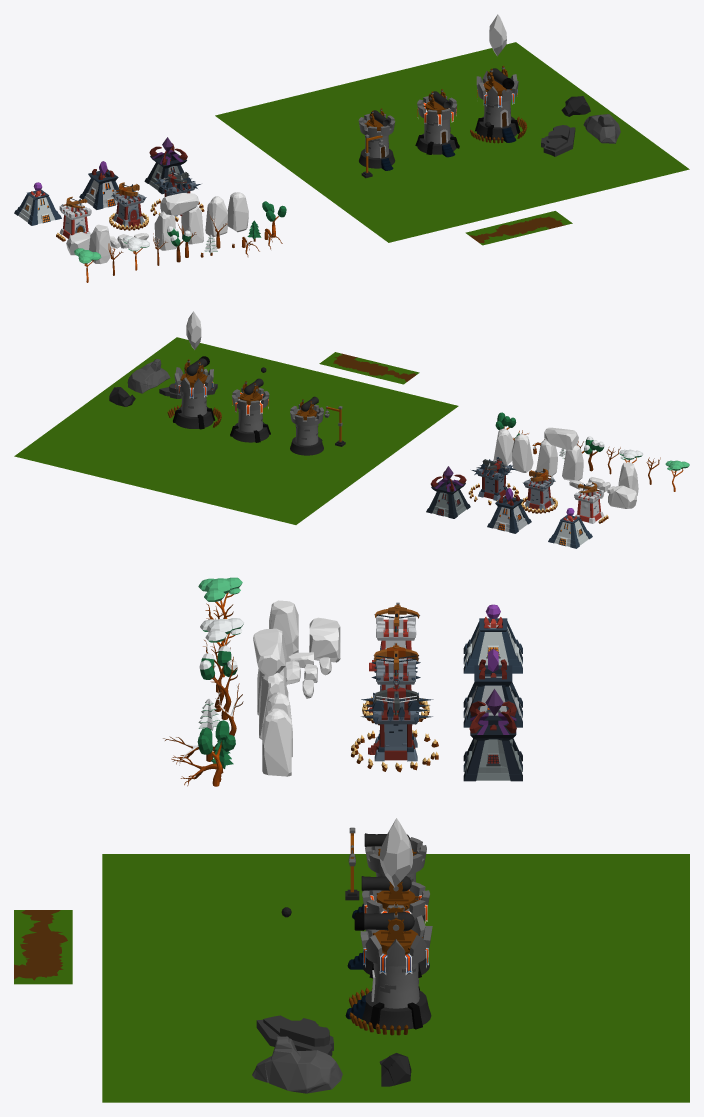
3 views of the same model, one above another, from view 1: azimuth 30°, elevation 25°; view 2: azimuth 150°, elevation 25°; view 3: azimuth 270°, elevation 25° (orthographic). The views are drawn at different scales.
Visible parts, largest first — view 1: Plane, Tower Lvl 3, Tower Lvl 2, Tower Lvl 1, Tower lvl2, Tower lvl1, Tower lvl3, Archery Lvl.2, Cube.003, Plane.001, Archery Lvl.1, Cube.028 (+13 smaller); view 2: Plane, Tower Lvl 3, Tower Lvl 2, Tower lvl3, Tower Lvl 1, Tower lvl2, Tower lvl1, Archery Lvl.3, Cube.003, Archery Lvl.1, Archery Lvl.2, Cube.028 (+12 smaller); view 3: Plane, Tower Lvl 3, Tower lvl3, Cube.003, Archery Lvl.3, Tower lvl1, Tower lvl2, Plane.001, Cube.027, Gun.002, Plane.005, Plane.007 (+16 smaller).
Part boxes in pixels (x1,y1,x2,y2): Plane: (215,42,689,242); Tower Lvl 3: (470,71,527,143); Tower Lvl 2: (415,96,459,157); Tower Lvl 1: (358,113,395,170); Tower lvl2: (79,169,118,209); Tower lvl1: (14,189,61,225); Tower lvl3: (144,143,187,194); Archery Lvl.2: (111,190,146,227); Cube.003: (583,114,620,143); Plane.001: (541,125,575,156); Archery Lvl.1: (59,203,91,238); Cube.028: (205,196,227,237); Plane: (14,337,458,524); Tower Lvl 3: (167,367,221,429); Tower Lvl 2: (230,387,270,442); Tower lvl3: (426,471,470,518); Tower Lvl 1: (290,404,323,455); Tower lvl2: (487,495,531,533); Tower lvl1: (548,515,592,548); Archery Lvl.3: (471,460,516,500); Cube.003: (127,359,170,393); Archery Lvl.1: (574,488,603,523); Archery Lvl.2: (523,476,555,510); Cube.028: (512,434,533,472); Plane: (102,854,689,1102); Tower Lvl 3: (345,915,432,1035); Tower lvl3: (463,701,522,781); Cube.003: (252,1036,342,1093); Archery Lvl.3: (361,692,433,761); Tower lvl1: (463,617,522,673); Tower lvl2: (463,659,522,727); Plane.001: (256,1015,333,1056); Cube.027: (262,708,291,776); Gun.002: (354,902,422,954); Plane.005: (14,934,72,959); Plane.007: (14,959,72,984).
Bounding box in the file's own units: 1537 × 307 × 920.
